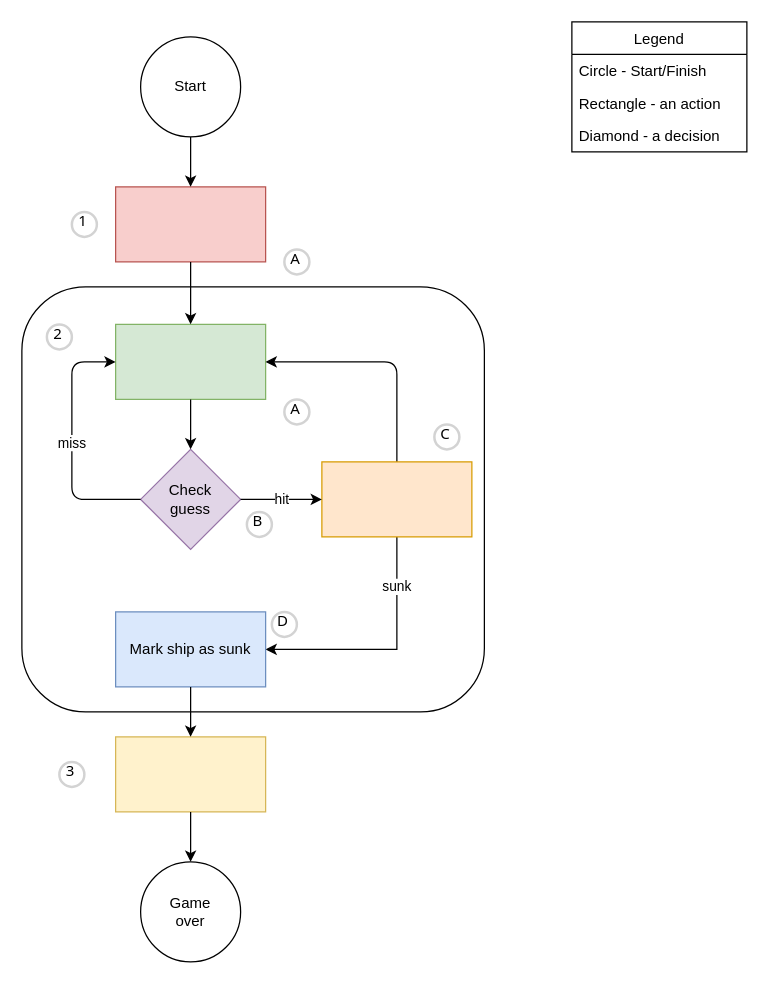
Image size: 769x984. Some labels were removed from this diagram. The shapes that lost their labels are listed below. From the top down, each one's centre as x and y in pixels, then its label:
At point 190,224: "Game set-up".
At point 190,361: "Get user guess".
At point 396,499: "Mark ship as hit".
At point 190,774: "Display user score rating".
